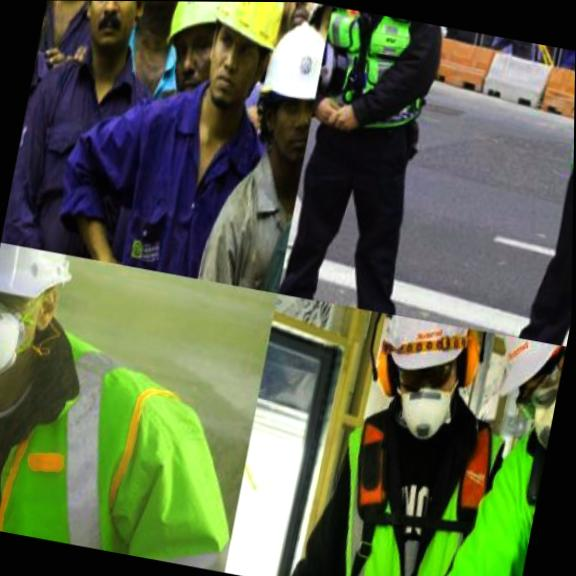safety_vest: (0, 321, 263, 572), (317, 389, 509, 576), (91, 89, 261, 283), (310, 6, 424, 146), (543, 49, 575, 196)
